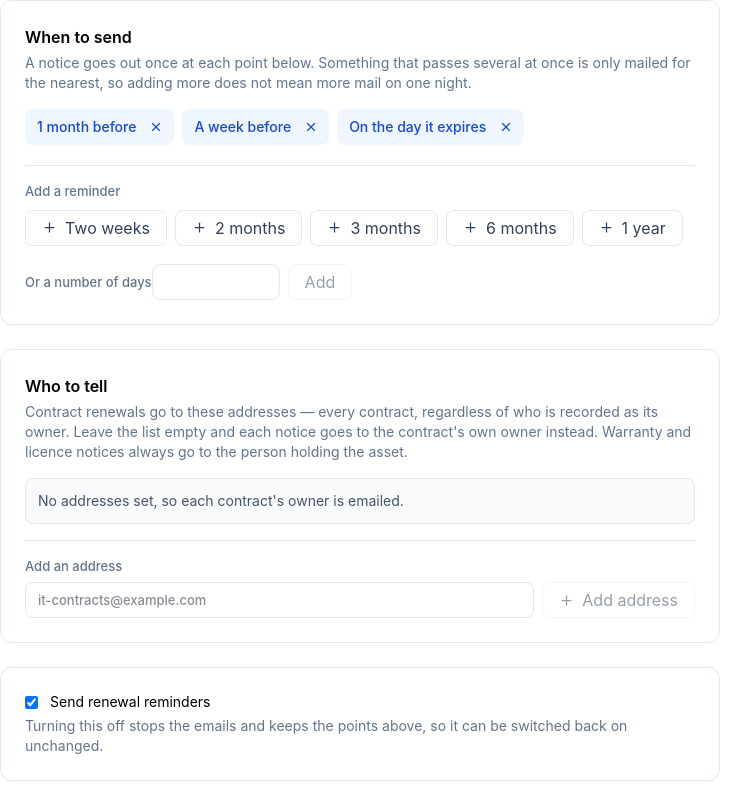
Test: RenewalRemindersPage › takes a number of days for anything the presets do not cover
This screenshot has width=737, height=798.
Type "45" into the field labelled "Or a number of days" at point(216, 282), box top-left (152, 264), bottom-right (280, 300)
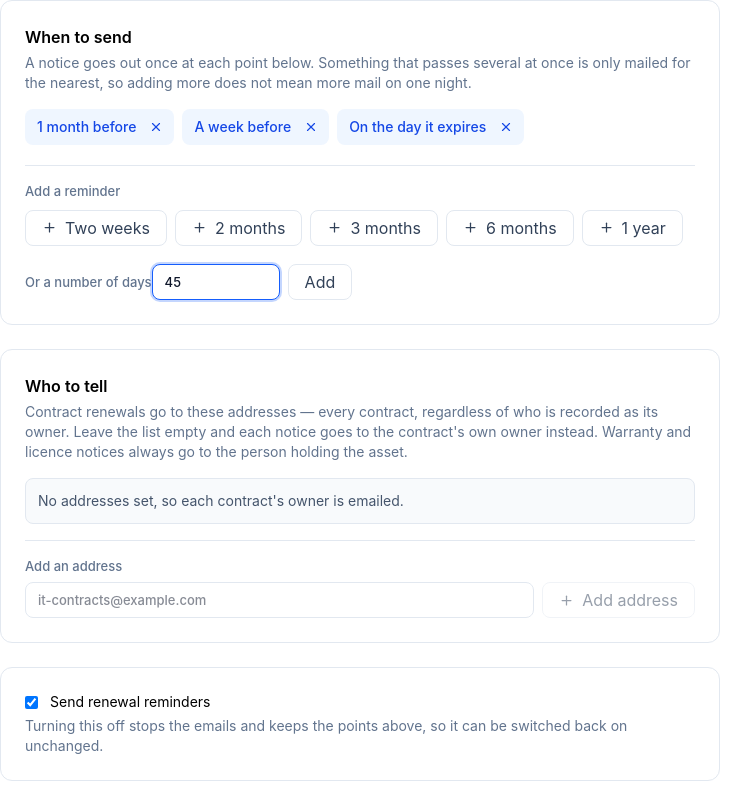
Click the button "Add" at point(320, 282), box top-left (288, 264), bottom-right (352, 300)
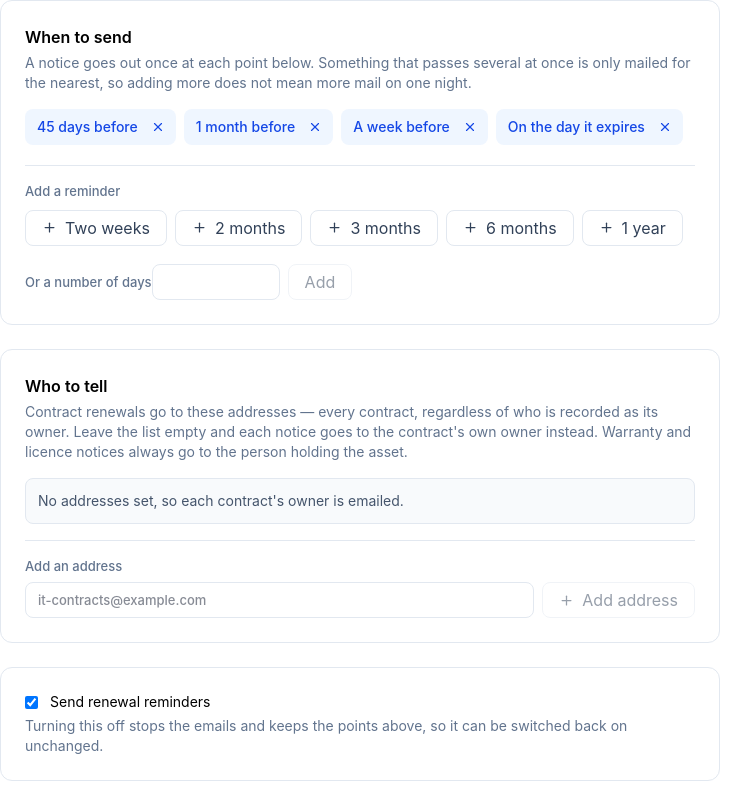
Check: the text "45 days before" is shown, box top-left (25, 109), bottom-right (176, 145)
